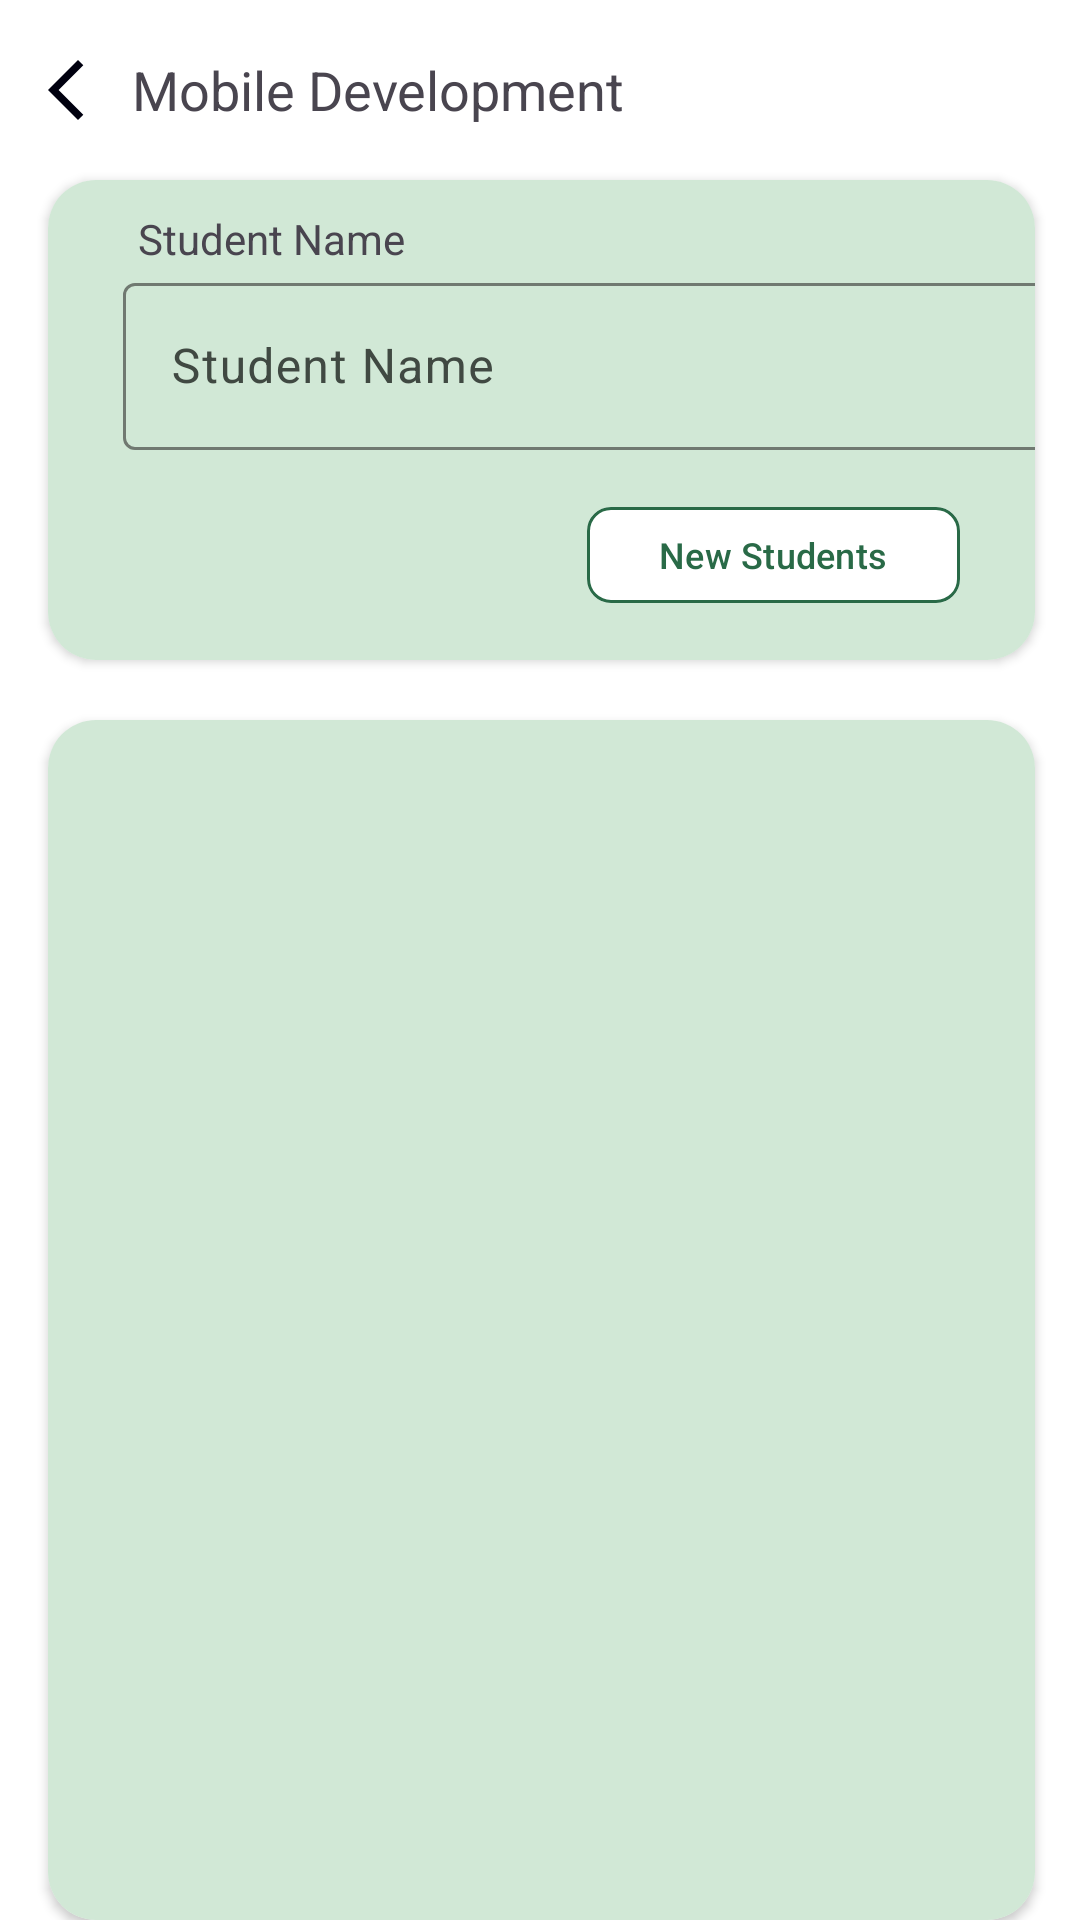

Icons on this 1080*1920 Android screen, each with the point to tap as [x,y]:
back: [65,90]
